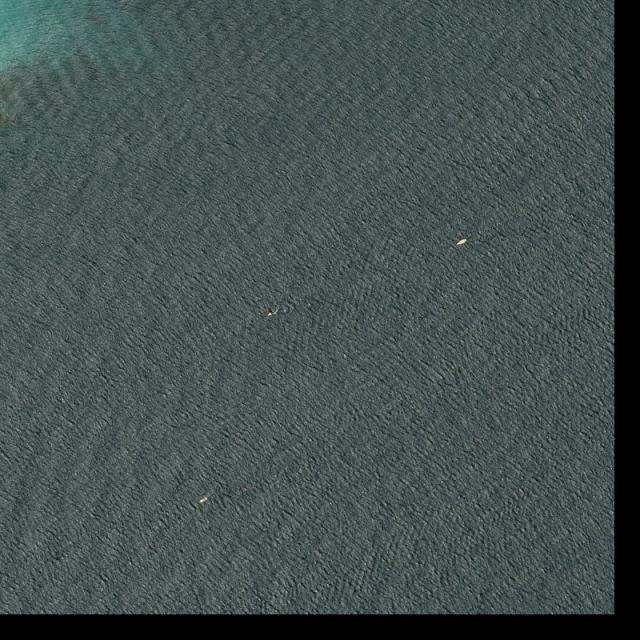ship: (198, 497, 208, 505)
